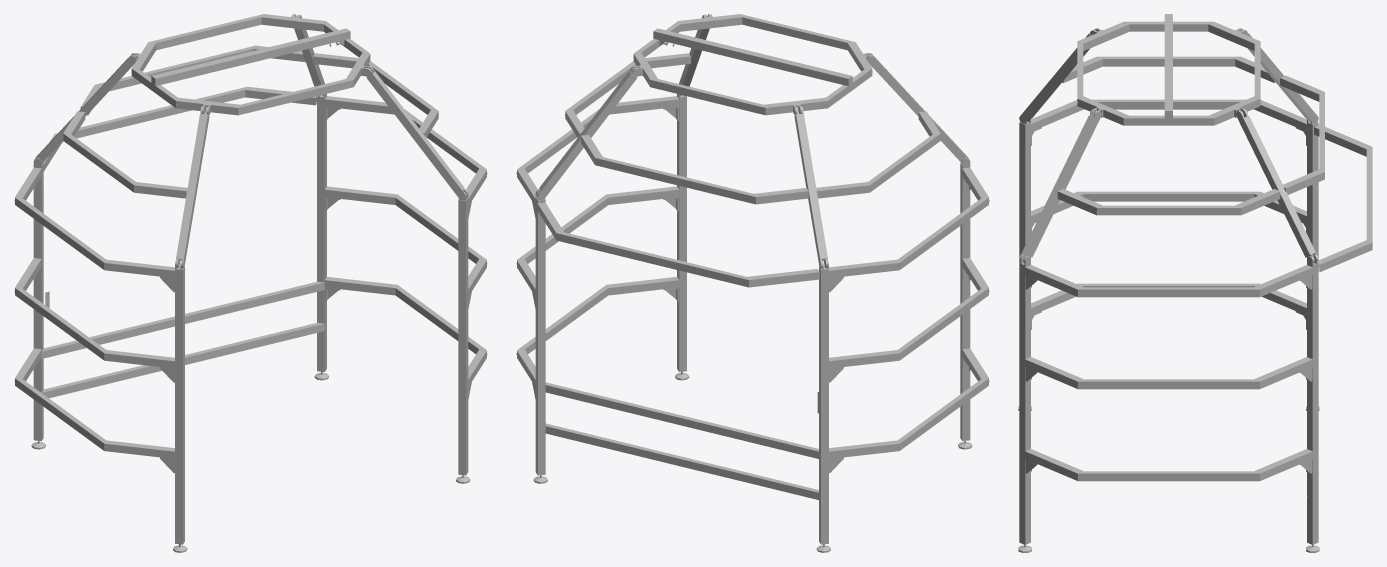
The model's file is Dome.dae.
3 renders of one model, left to right at view 1: azimuth 30°, elevation 25°; view 2: azimuth 150°, elevation 25°; view 3: azimuth 270°, elevation 25°, orthographic.
Visible parts, largest first — view 1: node; view 2: node; view 3: node.
Part boxes in pixels (box(x1,y1,x2,y2)): node: box(14, 14, 487, 552); node: box(516, 14, 989, 552); node: box(1018, 14, 1372, 552).
Size of the model in its own units: 24.39 by 24.95 by 19.19.
Materials: 1 (1 with a texture image).
